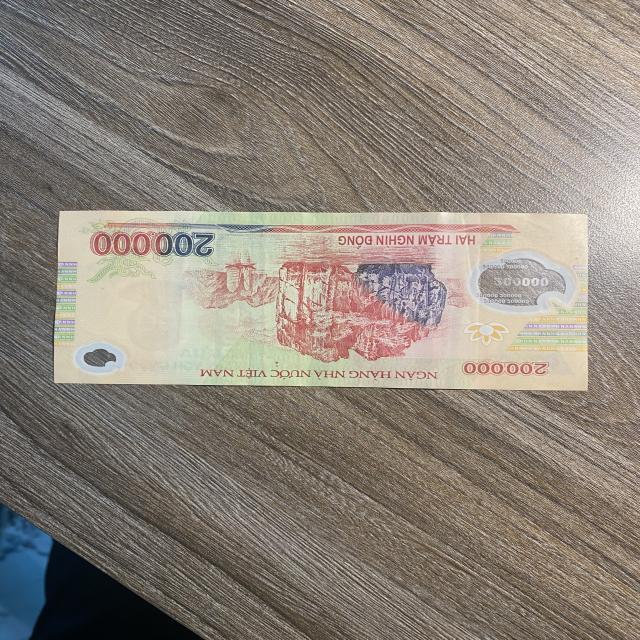200 000 VND: (39, 199, 606, 415)
